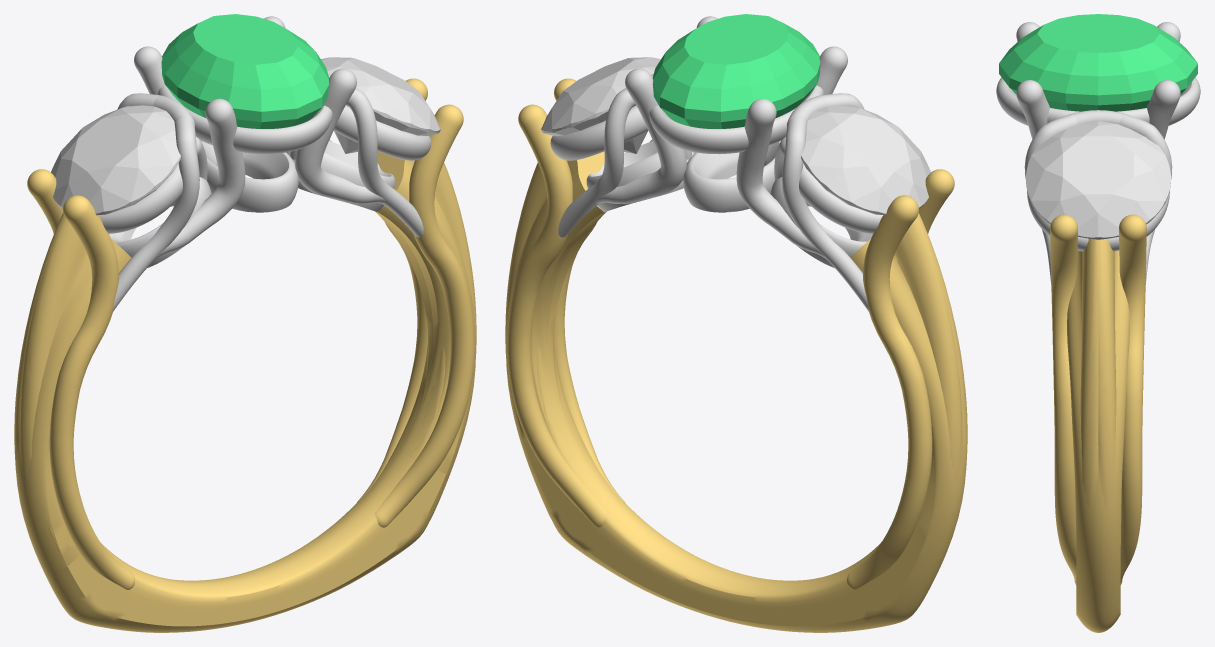
File: BlaineYGPTeng.glb
3 views of the same model, side by side, from view 1: azimuth 30°, elevation 25°; view 2: azimuth 150°, elevation 25°; view 3: azimuth 270°, elevation 25° (orthographic). The views are drawn at different scales.
Parts seen in each view (by area): view 1: Blaine YG for 3d model, Blaine PT for 3d model, Blaine garnet for 3d model, Blaine dia for 3d model.001, Blaine dia for 3d model; view 2: Blaine YG for 3d model, Blaine PT for 3d model, Blaine garnet for 3d model, Blaine dia for 3d model.001, Blaine dia for 3d model; view 3: Blaine YG for 3d model, Blaine garnet for 3d model, Blaine dia for 3d model, Blaine PT for 3d model.
Boxes of the visible parts, x1,y1,x2,y2 form: Blaine YG for 3d model: (14,78,476,632); Blaine PT for 3d model: (62,16,431,311); Blaine garnet for 3d model: (161,14,329,128); Blaine dia for 3d model.001: (51,105,180,215); Blaine dia for 3d model: (321,57,440,153); Blaine YG for 3d model: (505,78,967,632); Blaine PT for 3d model: (550,16,919,311); Blaine garnet for 3d model: (652,14,820,128); Blaine dia for 3d model.001: (801,105,930,215); Blaine dia for 3d model: (541,57,660,153); Blaine YG for 3d model: (1050,214,1146,632); Blaine garnet for 3d model: (999,14,1197,111); Blaine dia for 3d model: (1026,121,1170,239); Blaine PT for 3d model: (996,22,1200,284).
Bounding box in the file's own units: 20.5 × 25.08 × 8.3.
